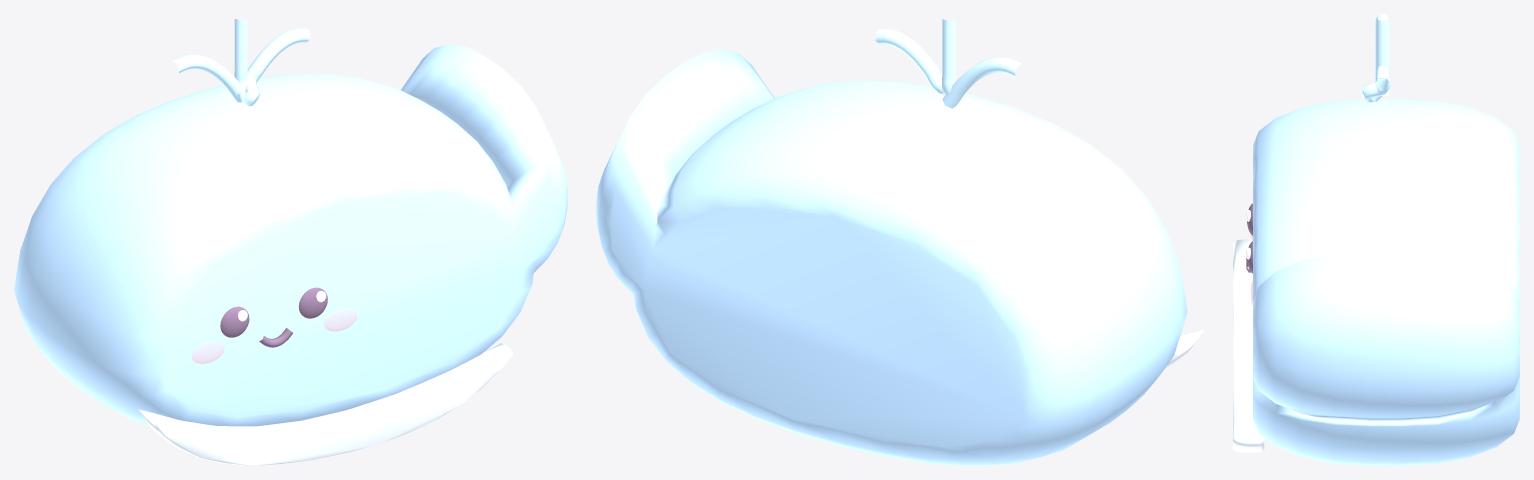
File: squishy_whale.glb
3 renders of one model, left to right at view 1: azimuth 30°, elevation 25°; view 2: azimuth 150°, elevation 25°; view 3: azimuth 270°, elevation 25°, orthographic. The views are drawn at different scales.
Parts seen in each view (by area): view 1: whale; view 2: whale; view 3: whale.
Boxes of the visible parts, x1=… form: whale: x1=14, y1=19, x2=567, y2=465; whale: x1=596, y1=19, x2=1204, y2=465; whale: x1=1233, y1=14, x2=1519, y2=465.
Bounding box in the file's own units: 1.27 × 1 × 0.6746.
